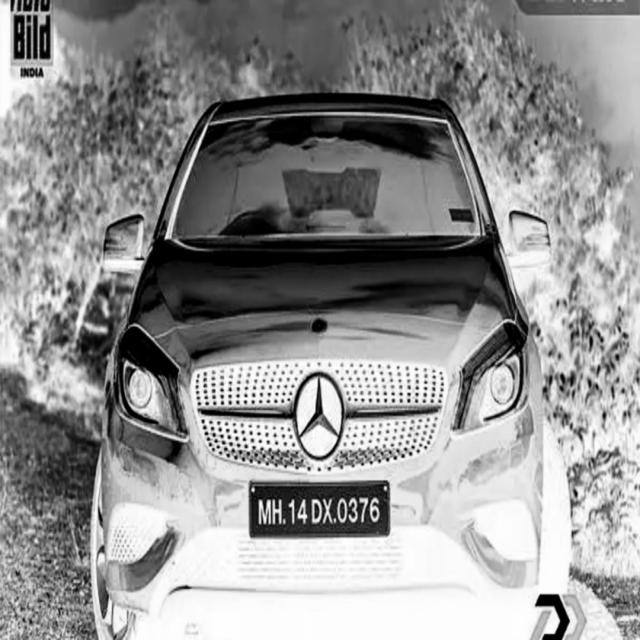Non_registered: (250, 483, 390, 536)
